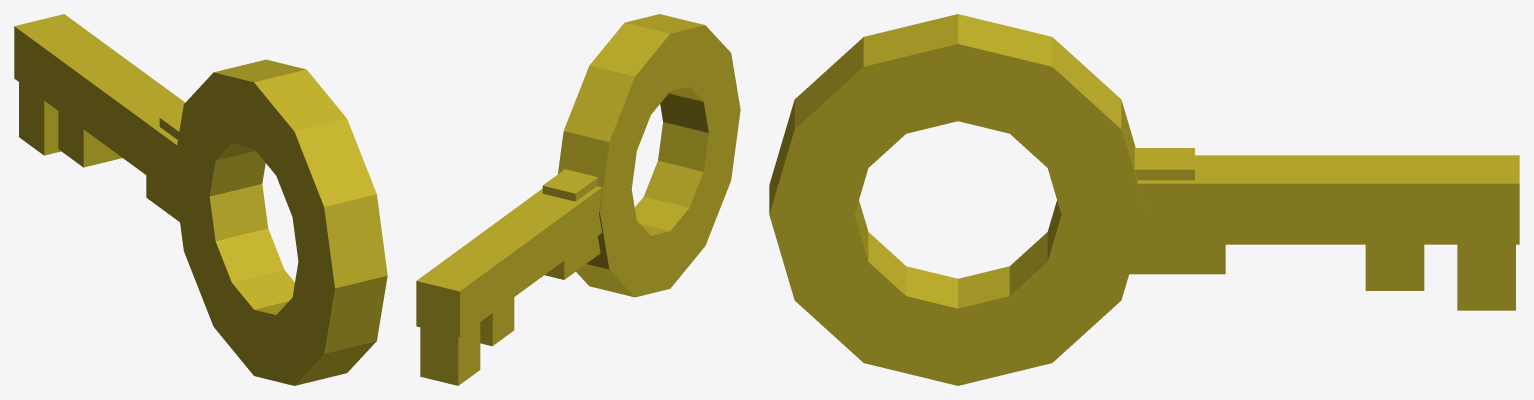
Rendered from key.fbx.
3 renders of one model, left to right at view 1: azimuth 30°, elevation 25°; view 2: azimuth 150°, elevation 25°; view 3: azimuth 270°, elevation 25°, orthographic. The views are drawn at different scales.
Parts seen in each view (by area): view 1: Cylinder; view 2: Cylinder; view 3: Cylinder.
Boxes of the visible parts, x1,y1,x2,y2 form: Cylinder: (14,14,387,385); Cylinder: (416,14,740,385); Cylinder: (769,14,1519,385).
Bounding box in the file's own units: 37.55 × 200 × 398.
